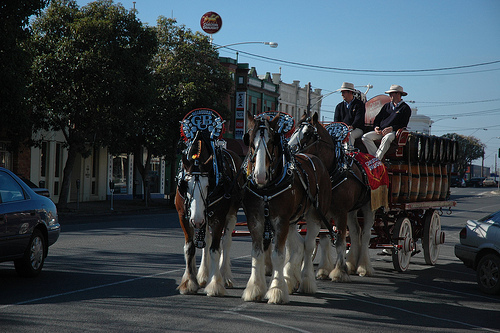horse: (239, 112, 333, 306), (288, 111, 388, 279), (175, 117, 246, 298)
